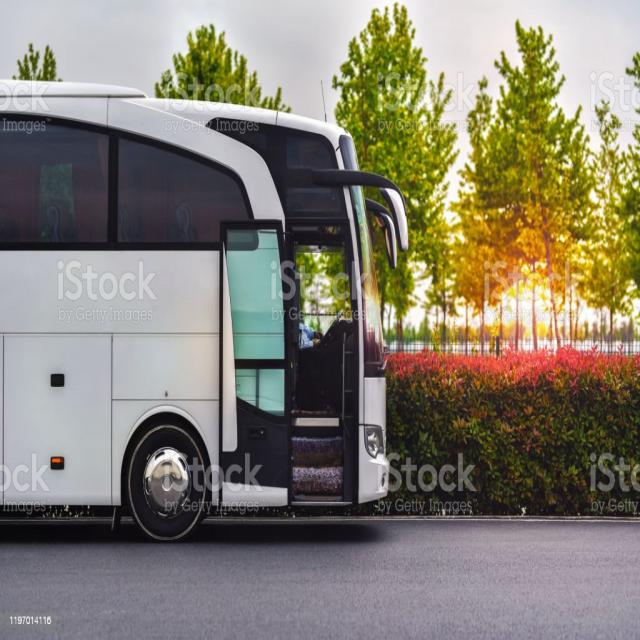bus: (10, 90, 384, 530)
tree: (514, 67, 580, 380), (375, 42, 420, 396), (586, 124, 638, 367), (426, 195, 462, 384), (468, 180, 498, 373)
